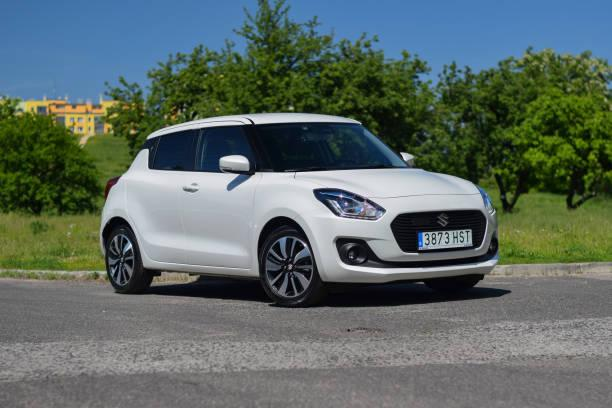suzuki: (434, 210, 453, 230)
